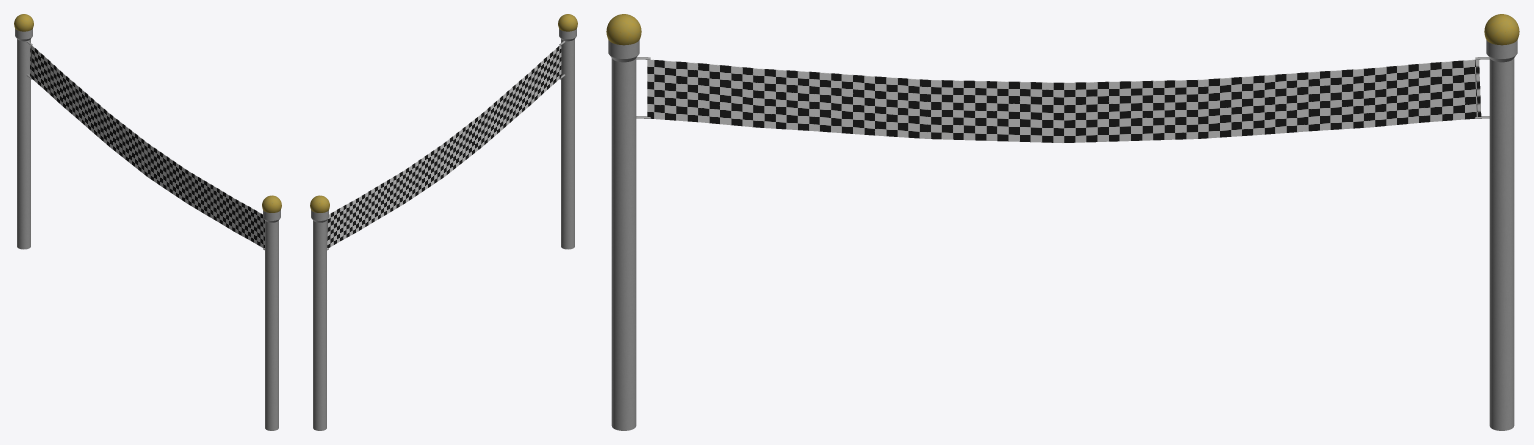
The model's file is Finish.fbx.
3 views of the same model, side by side, from view 1: azimuth 30°, elevation 25°; view 2: azimuth 150°, elevation 25°; view 3: azimuth 270°, elevation 25° (orthographic). The views are drawn at different scales.
Parts seen in each view (by area): view 1: Cylinder.001, Cylinder.002, Cylinder.003; view 2: Cylinder.001, Cylinder.002, Cylinder.003; view 3: Cylinder.001, Cylinder.002, Cylinder.003.
Part boxes in pixels (left/top/right/bottom): Cylinder.001: left=30, top=45, right=264, bottom=248; Cylinder.002: left=15, top=28, right=280, bottom=430; Cylinder.003: left=14, top=14, right=281, bottom=212; Cylinder.001: left=327, top=45, right=561, bottom=248; Cylinder.002: left=311, top=28, right=576, bottom=430; Cylinder.003: left=310, top=14, right=577, bottom=212; Cylinder.001: left=647, top=59, right=1481, bottom=142; Cylinder.002: left=608, top=40, right=1517, bottom=430; Cylinder.003: left=606, top=14, right=1519, bottom=45.
Bounding box in the file's own units: 56.01 × 717 × 1447.
